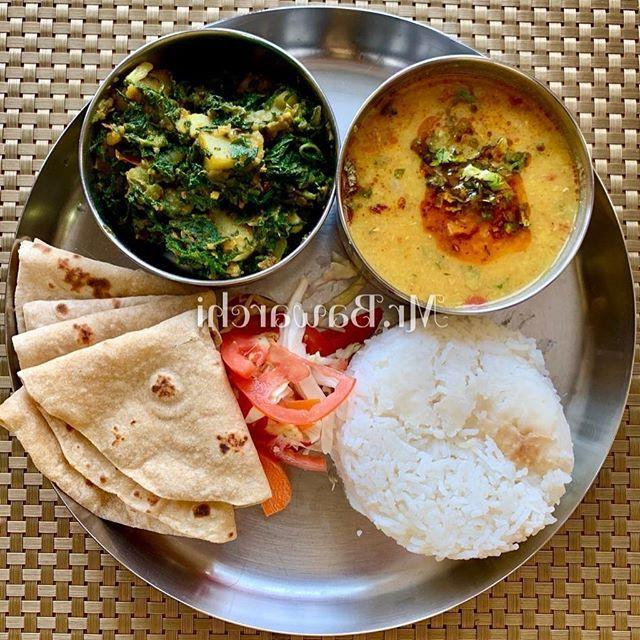Roti: (12, 244, 252, 538)
White Rice: (320, 335, 571, 574)
